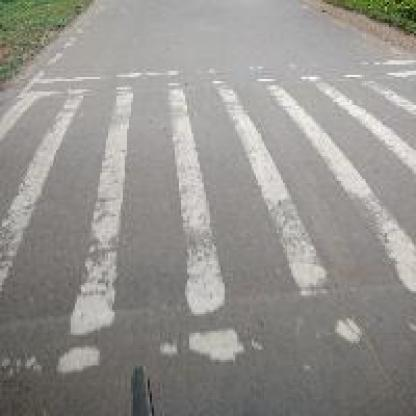Speed Bump: (0, 54, 414, 383)
